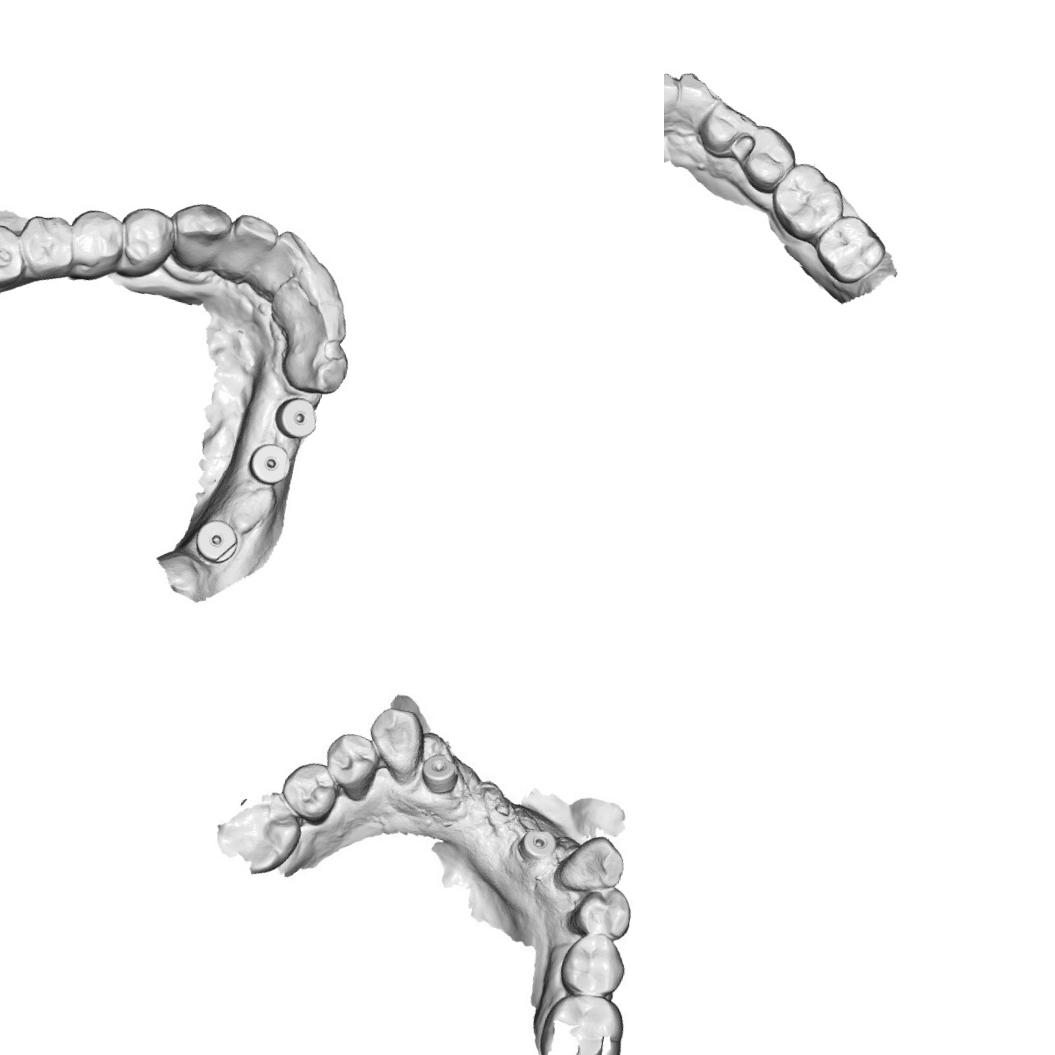canine: (163, 196, 234, 280), (362, 696, 427, 785), (552, 828, 632, 898), (274, 335, 352, 399), (670, 68, 722, 128)
implant: (188, 512, 242, 566), (416, 744, 466, 800), (244, 436, 294, 489), (272, 392, 323, 443), (516, 824, 556, 866)
incisor: (247, 223, 317, 299), (272, 251, 345, 322), (281, 287, 354, 354), (217, 209, 281, 285), (664, 68, 683, 110)
molar: (212, 784, 300, 882), (764, 158, 850, 248), (532, 985, 635, 1055), (809, 209, 891, 289), (12, 208, 80, 284), (0, 217, 33, 293)
premolar: (552, 931, 634, 1004), (112, 200, 179, 285), (60, 204, 128, 286), (735, 120, 801, 198), (320, 729, 382, 807), (566, 882, 635, 946), (692, 96, 756, 162), (279, 758, 340, 822)
